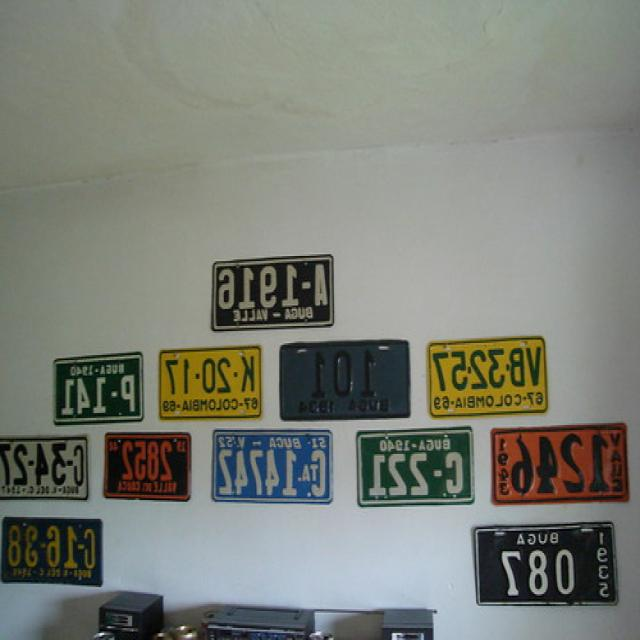placas: (508, 430, 610, 496), (431, 341, 543, 395), (213, 448, 329, 500), (214, 259, 331, 309), (363, 450, 468, 501), (491, 543, 584, 599), (162, 348, 257, 395), (4, 520, 98, 567), (301, 346, 381, 398), (54, 371, 137, 420), (0, 440, 84, 487), (112, 439, 176, 480)
